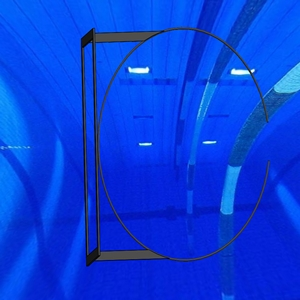circle: (79, 25, 272, 268)
